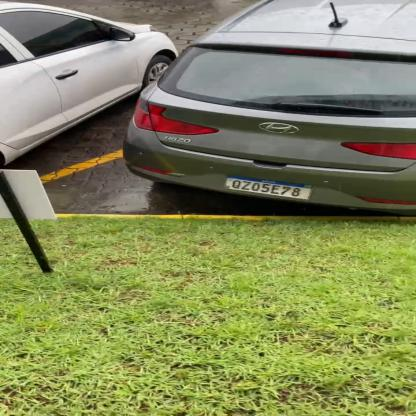Plate: (222, 170, 318, 206)
